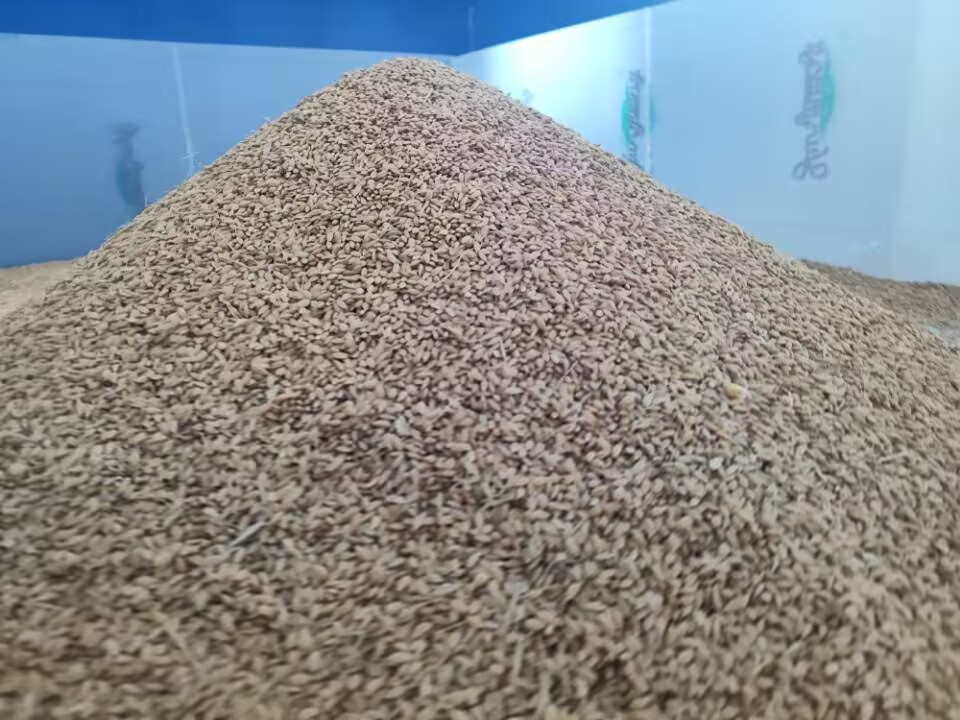Grain: (94, 50, 745, 628)
